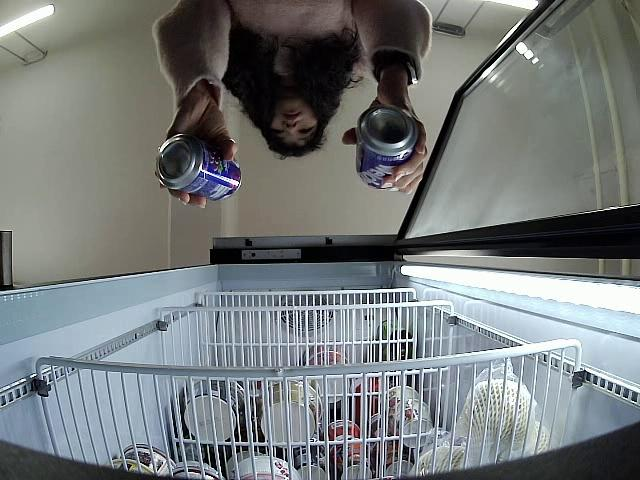00_hand: (157, 95, 238, 209), (341, 91, 429, 193)
14_welchsGrape: (154, 136, 241, 201), (354, 106, 419, 189)
